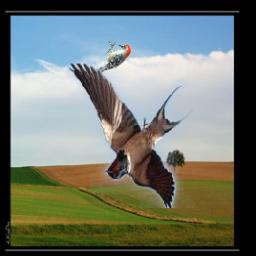Swallow: (67, 64, 195, 208)
Woodpecker: (93, 42, 131, 74)
